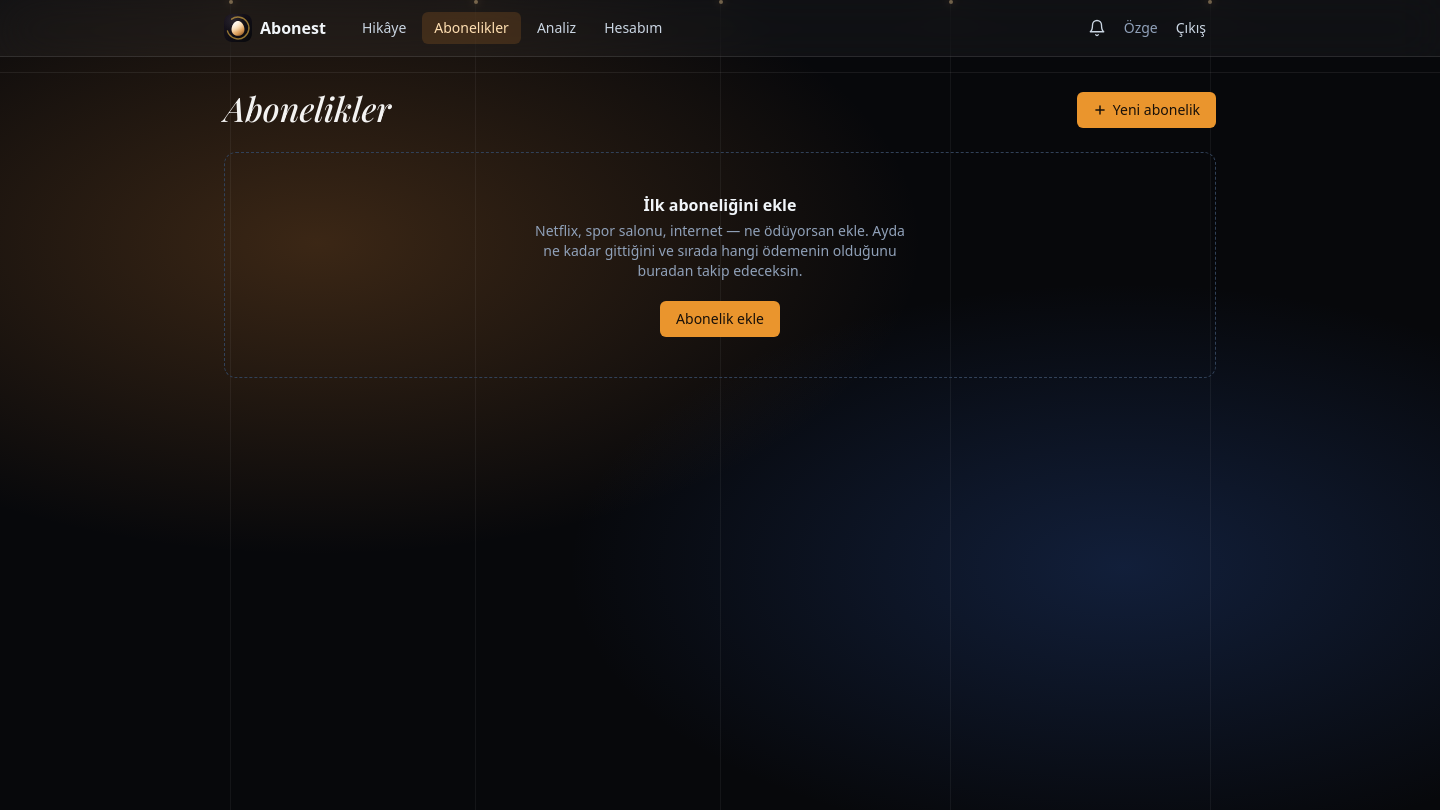
Test: hesap ekranına ulaşmak › gezinme çubuğundan açılıyor
The width and height of the screenshot is (1440, 810).
Click the link "Hesabım".
click(633, 28)  # box [604, 18, 662, 37]
(page scrolled)
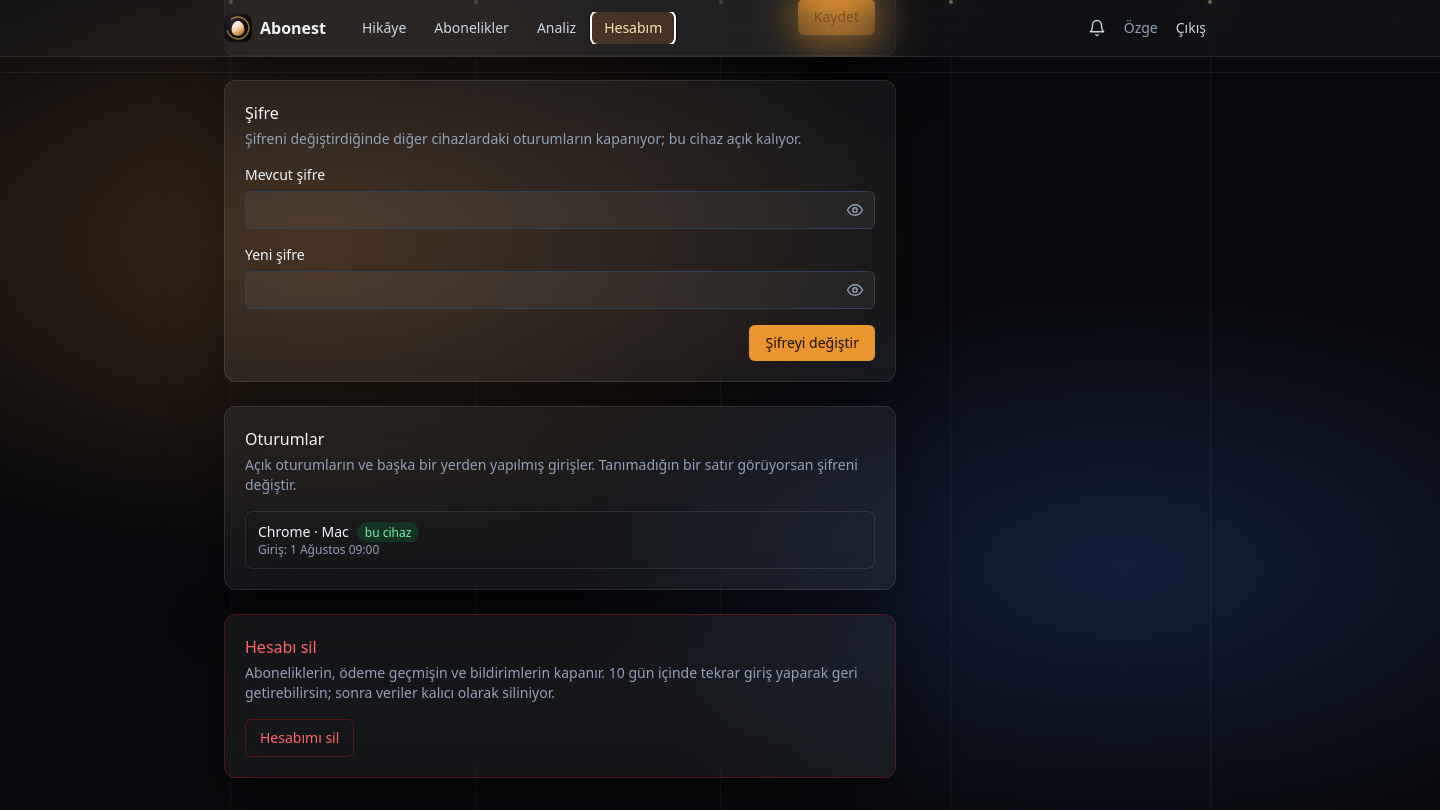
Now the button "Hesabımı sil" is shown, box [245, 719, 354, 757]
